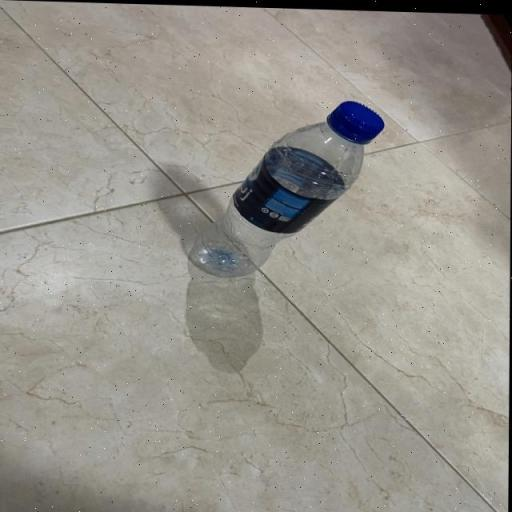plastic: (182, 84, 394, 290)
